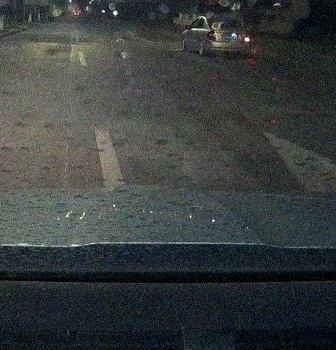L_light: (207, 30, 216, 41)
R_light: (242, 32, 250, 43)
T_light: (219, 18, 225, 20)
night-right: (207, 16, 252, 57)
